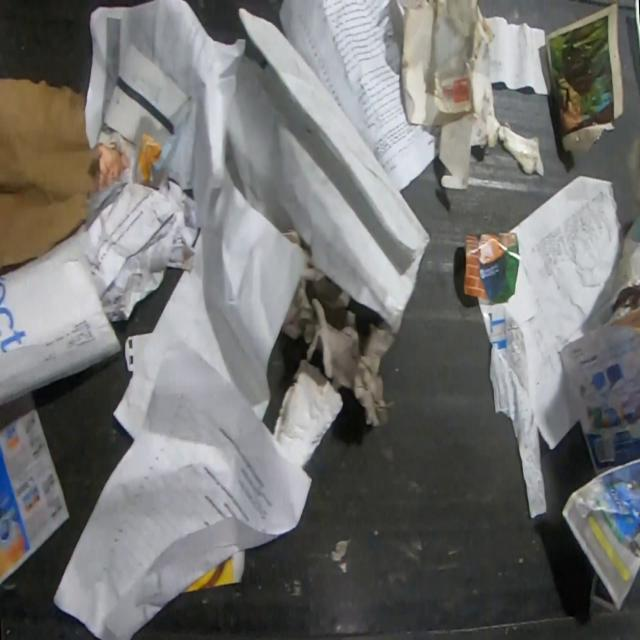cardboard: (394, 0, 545, 190), (0, 79, 103, 269)
